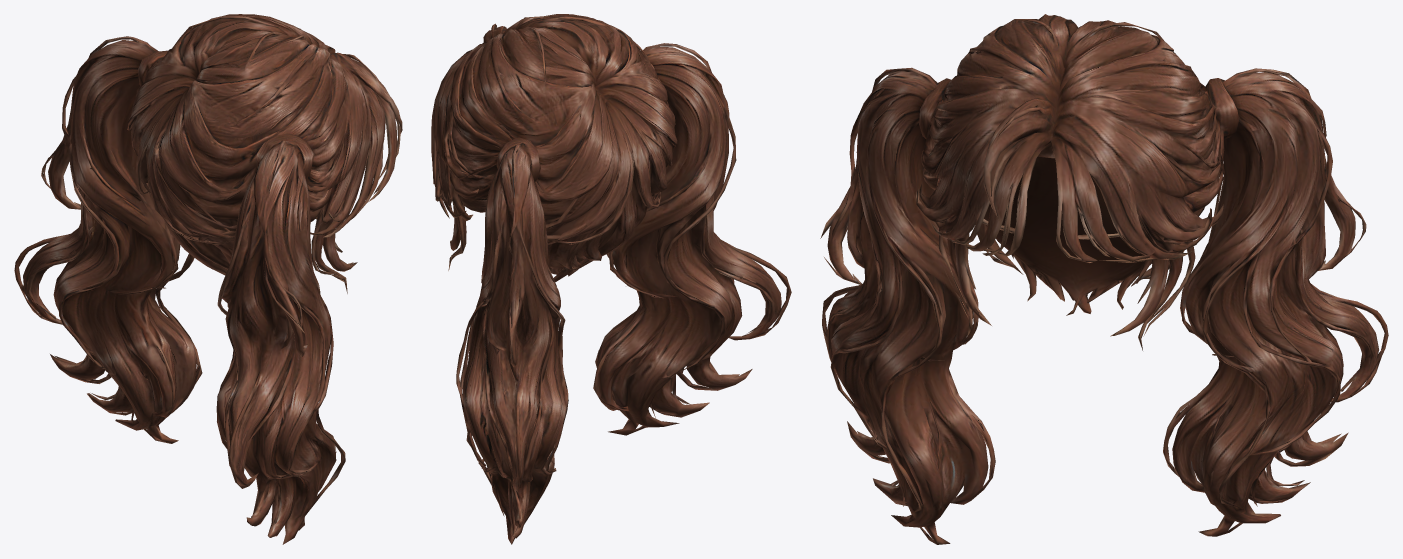
Rendered from twin-tail.glb.
The picture shows the model from 3 angles, left to right: view 1: azimuth 30°, elevation 25°; view 2: azimuth 150°, elevation 25°; view 3: azimuth 270°, elevation 25°; orthographic projection. The views are drawn at different scales.
Parts seen in each view (by area): view 1: tripo_node_a8cde966-1f3e-4c46-9883-fb0b8d83a401; view 2: tripo_node_a8cde966-1f3e-4c46-9883-fb0b8d83a401; view 3: tripo_node_a8cde966-1f3e-4c46-9883-fb0b8d83a401.
Boxes of the visible parts, <box> form: tripo_node_a8cde966-1f3e-4c46-9883-fb0b8d83a401: <box>14,14,402,544</box>; tripo_node_a8cde966-1f3e-4c46-9883-fb0b8d83a401: <box>431,14,791,544</box>; tripo_node_a8cde966-1f3e-4c46-9883-fb0b8d83a401: <box>820,14,1388,544</box>.
Bounding box in the file's own units: 0.5704 × 0.9791 × 0.9567.
1 material, 1 textured.
